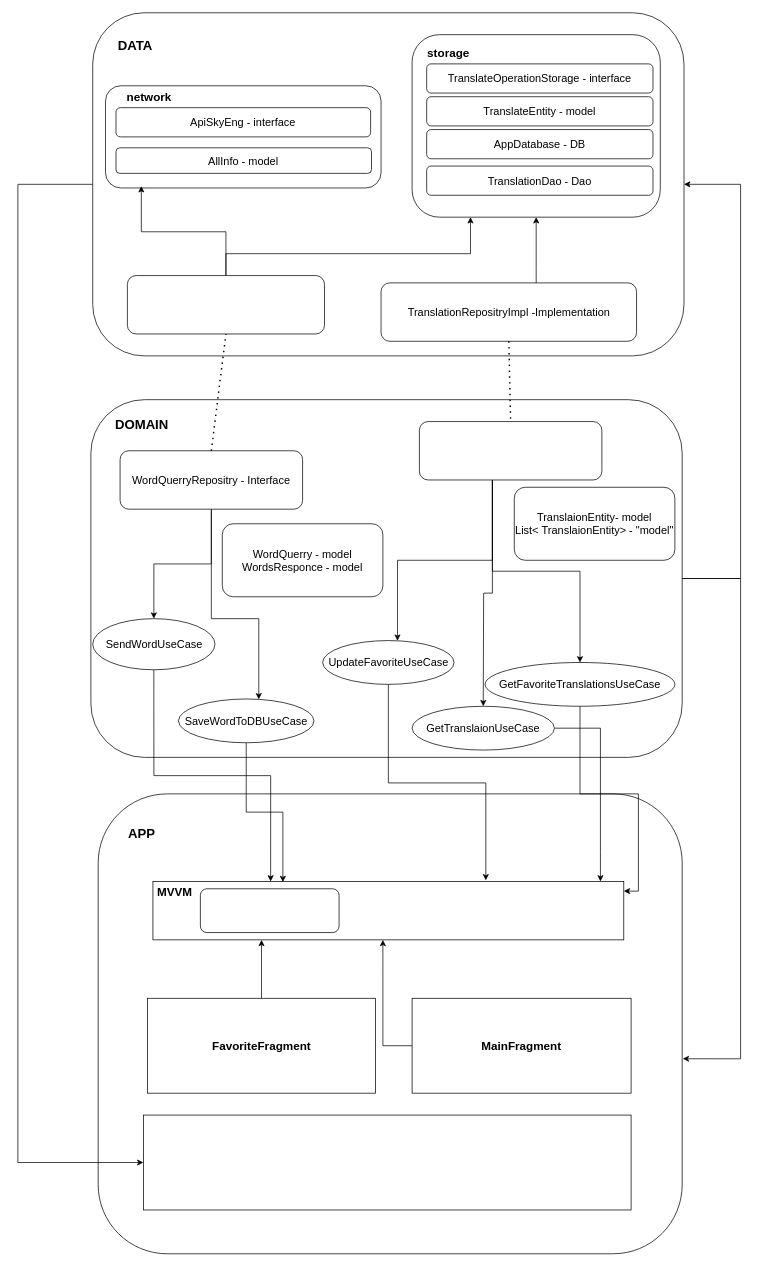
The diagram is 759 pixels wide and 1267 high, and some of its shapes have lost their labels. Each missing label, with the box of its shape:
DI(Dagger2): (143, 1114, 631, 1210)
TranslationRepositry - Interface: (419, 421, 602, 480)
TraslateListListener: (200, 888, 339, 933)
WordQuerry Repositry Impl -Implementation: (127, 275, 324, 334)
